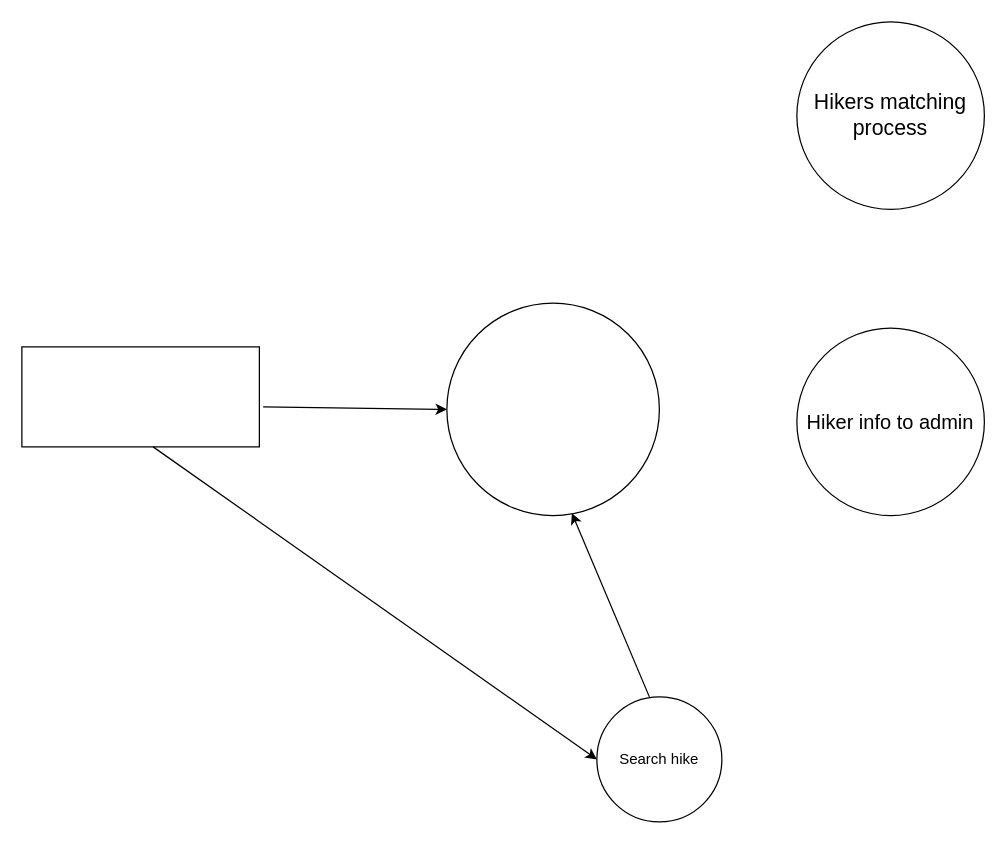
Some shapes in this 1006 by 844 pixel diagram are drawn without their labels. Each missing label, with the box of its shape:
Hike matching System: (446, 302, 659, 516)
Hikers: (21, 346, 259, 447)
